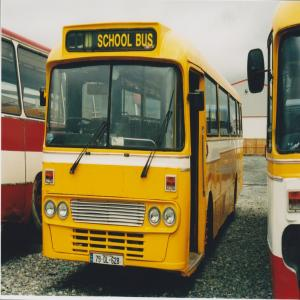Vehicle-registration-plate: (91, 253, 124, 268)
